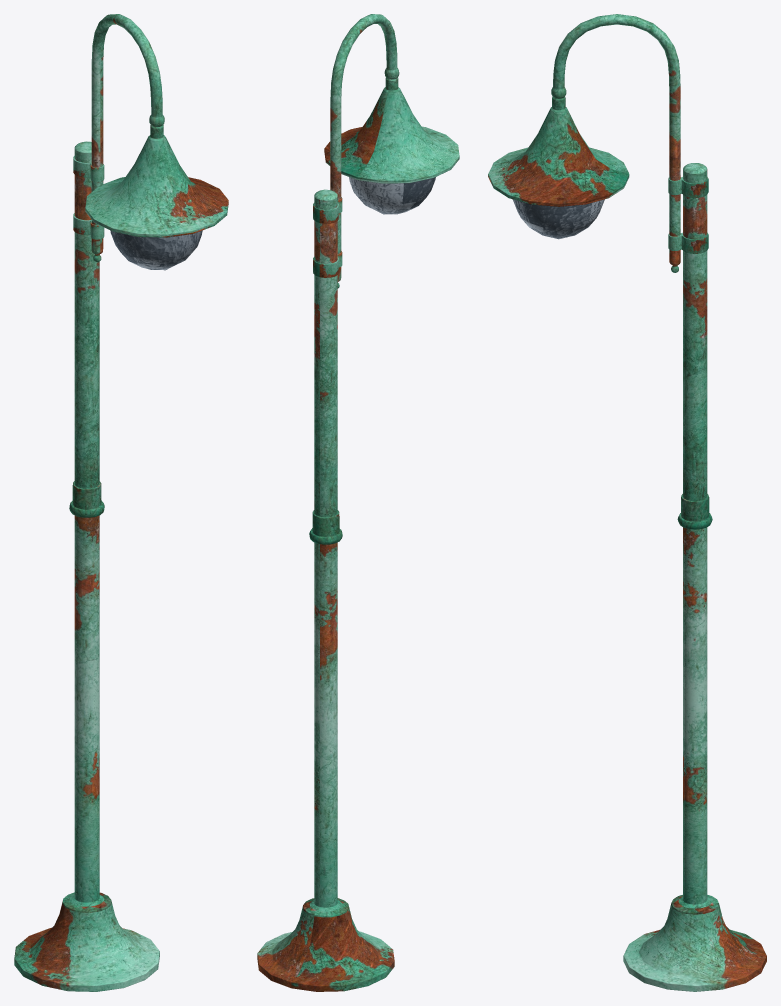
Rendered from lamparaTexturizada.obj.
3 renders of one model, left to right at view 1: azimuth 30°, elevation 25°; view 2: azimuth 150°, elevation 25°; view 3: azimuth 270°, elevation 25°, orthographic. The views are drawn at different scales.
Visible parts, largest first — view 1: Lampione_Base_LP_Mesh_005, Reggi_Lampada_LP_Mesh_004, Vetro_LP_Mesh_001, Fascia_Lampada_Superiore_LP_Mesh_002; view 2: Lampione_Base_LP_Mesh_005, Reggi_Lampada_LP_Mesh_004, Vetro_LP_Mesh_001; view 3: Lampione_Base_LP_Mesh_005, Reggi_Lampada_LP_Mesh_004, Vetro_LP_Mesh_001, Fascia_Lampada_Inferiore_LP_Mesh_003, Fascia_Lampada_Superiore_LP_Mesh_002.
Boxes of the visible parts, x1=… form: Lampione_Base_LP_Mesh_005: x1=14, y1=141, x2=159, y2=991; Reggi_Lampada_LP_Mesh_004: x1=85, y1=14, x2=228, y2=261; Vetro_LP_Mesh_001: x1=110, y1=230, x2=202, y2=270; Fascia_Lampada_Superiore_LP_Mesh_002: x1=73, y1=156, x2=104, y2=182; Lampione_Base_LP_Mesh_005: x1=257, y1=189, x2=394, y2=991; Reggi_Lampada_LP_Mesh_004: x1=324, y1=14, x2=459, y2=288; Vetro_LP_Mesh_001: x1=349, y1=177, x2=435, y2=214; Lampione_Base_LP_Mesh_005: x1=623, y1=163, x2=766, y2=991; Reggi_Lampada_LP_Mesh_004: x1=488, y1=14, x2=680, y2=272; Vetro_LP_Mesh_001: x1=512, y1=199, x2=604, y2=239; Fascia_Lampada_Inferiore_LP_Mesh_003: x1=668, y1=232, x2=708, y2=253; Fascia_Lampada_Superiore_LP_Mesh_002: x1=668, y1=177, x2=708, y2=198.
Size of the model in its own units: 1.39 by 10.1 by 2.69.
